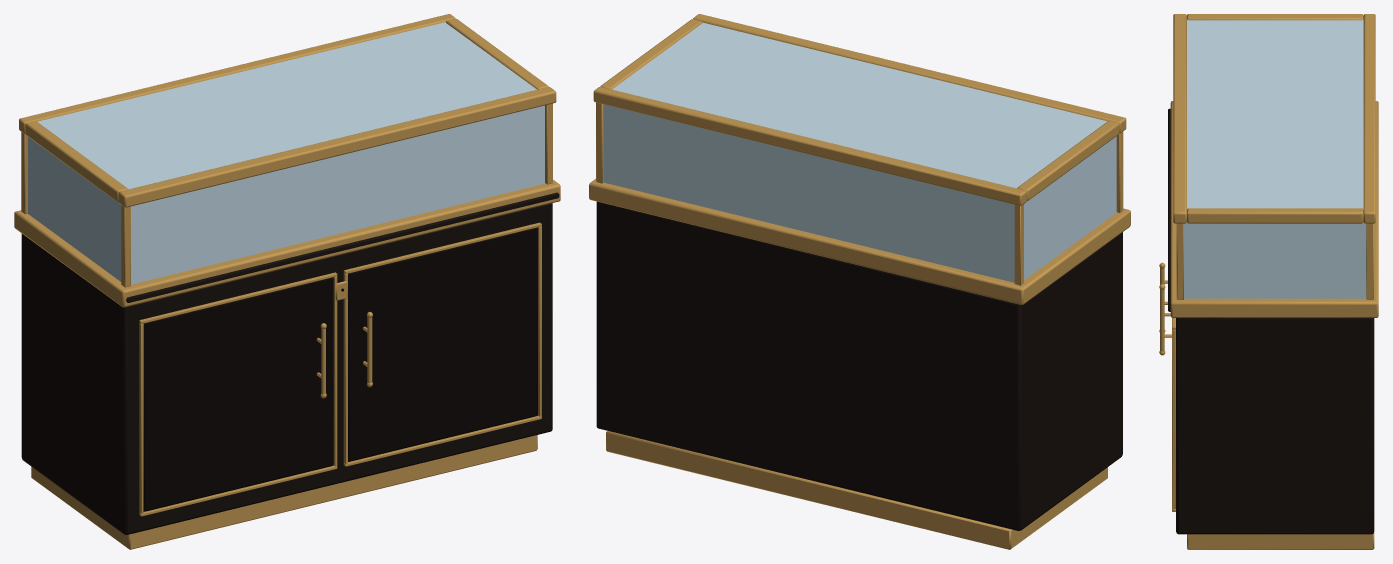
Rendered from showcase.glb.
The picture shows the model from 3 angles, left to right: view 1: azimuth 30°, elevation 25°; view 2: azimuth 150°, elevation 25°; view 3: azimuth 270°, elevation 25°; orthographic projection. The views are drawn at different scales.
Parts seen in each view (by area): view 1: showcase_glass_case, showcase_lacquer_inset, showcase_lacquer, showcase_brass; view 2: showcase_lacquer, showcase_glass_case, showcase_brass; view 3: showcase_glass_case, showcase_lacquer, showcase_brass.
Part boxes in pixels (<box>): showcase_glass_case: <box>28,22,545,284</box>; showcase_lacquer_inset: <box>143,227,537,511</box>; showcase_lacquer: <box>21,192,559,534</box>; showcase_brass: <box>14,14,560,549</box>; showcase_lacquer: <box>596,201,1122,530</box>; showcase_glass_case: <box>604,22,1116,282</box>; showcase_brass: <box>589,14,1130,549</box>; showcase_glass_case: <box>1184,20,1366,298</box>; showcase_lacquer: <box>1168,108,1374,534</box>; showcase_brass: <box>1159,14,1378,549</box>.
Size of the model in its own units: 1.33 by 1.05 by 0.6086.
